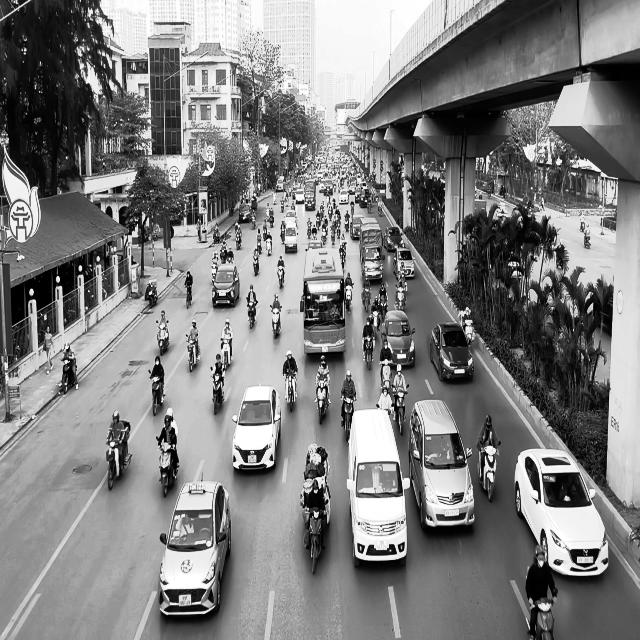bus: (302, 246, 346, 354)
car: (514, 447, 608, 578), (158, 463, 231, 618), (346, 408, 410, 568), (408, 398, 475, 530), (232, 384, 281, 471), (429, 322, 474, 382), (381, 310, 416, 368), (211, 263, 240, 307), (392, 246, 414, 278), (384, 225, 404, 251)
motorbike: (105, 421, 132, 490), (302, 505, 326, 574), (476, 440, 501, 502), (156, 436, 178, 497), (528, 594, 556, 640), (391, 384, 408, 435), (340, 393, 356, 443), (210, 366, 226, 415), (58, 356, 78, 394), (148, 370, 164, 415), (315, 379, 330, 424), (283, 369, 297, 412), (185, 334, 200, 372), (155, 320, 170, 355), (362, 334, 375, 370), (269, 304, 282, 338), (220, 335, 232, 369), (246, 299, 257, 329), (147, 280, 157, 307), (276, 264, 284, 288), (186, 284, 192, 309), (253, 251, 259, 276)
